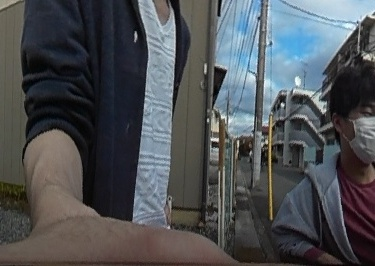person: (274, 59, 375, 266)
